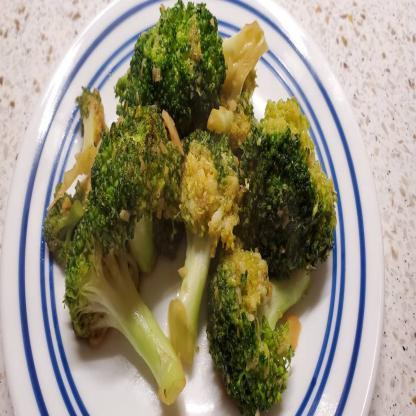broccoli: (40, 2, 338, 416)
